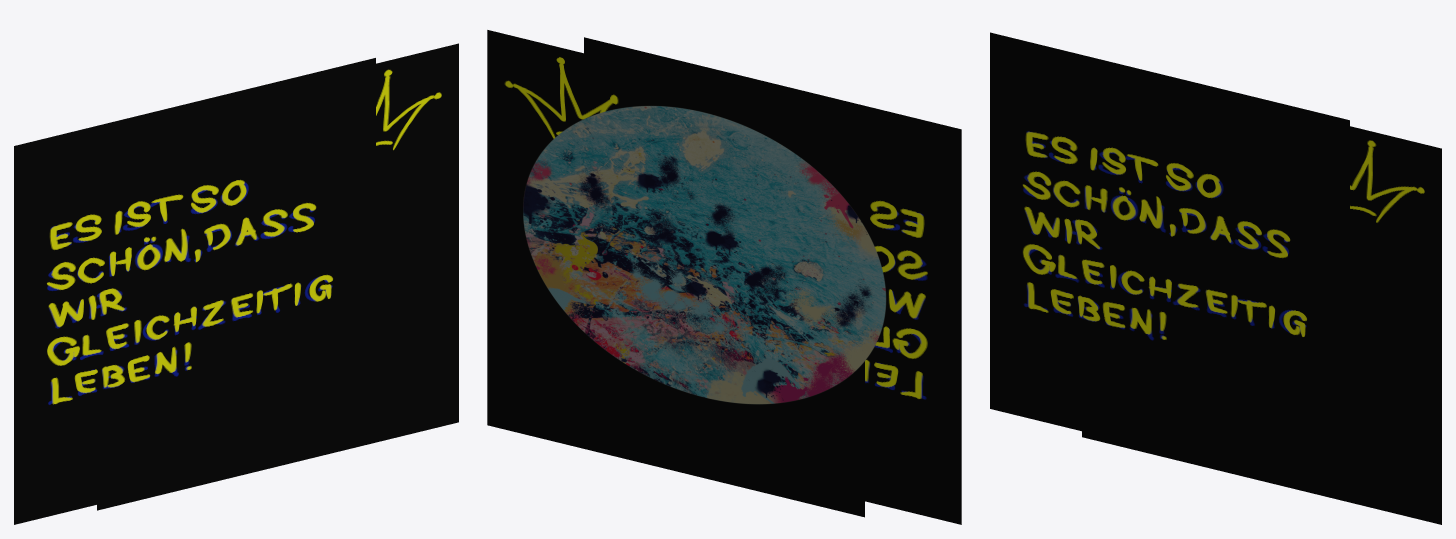
File: queen_krone_gleichzeitig_leben-8.glb
3 views of the same model, side by side, from view 1: azimuth 30°, elevation 25°; view 2: azimuth 150°, elevation 25°; view 3: azimuth 330°, elevation 25° (orthographic). The views are drawn at different scales.
Visible parts, largest first — view 1: Fläche.003, Fläche.002; view 2: Fläche.001, Fläche.002, Fläche.003; view 3: Fläche.003, Fläche.002.
Boxes of the visible parts, <box> form: Fläche.003: <box>14,58,375,524</box>; Fläche.002: <box>97,43,458,510</box>; Fläche.001: <box>523,106,886,404</box>; Fläche.002: <box>487,30,864,517</box>; Fläche.003: <box>584,37,961,524</box>; Fläche.003: <box>990,32,1349,496</box>; Fläche.002: <box>1082,126,1441,524</box>.
Size of the model in its own units: 2.48 by 2.16 by 0.1405.
3 materials, 3 textured.
